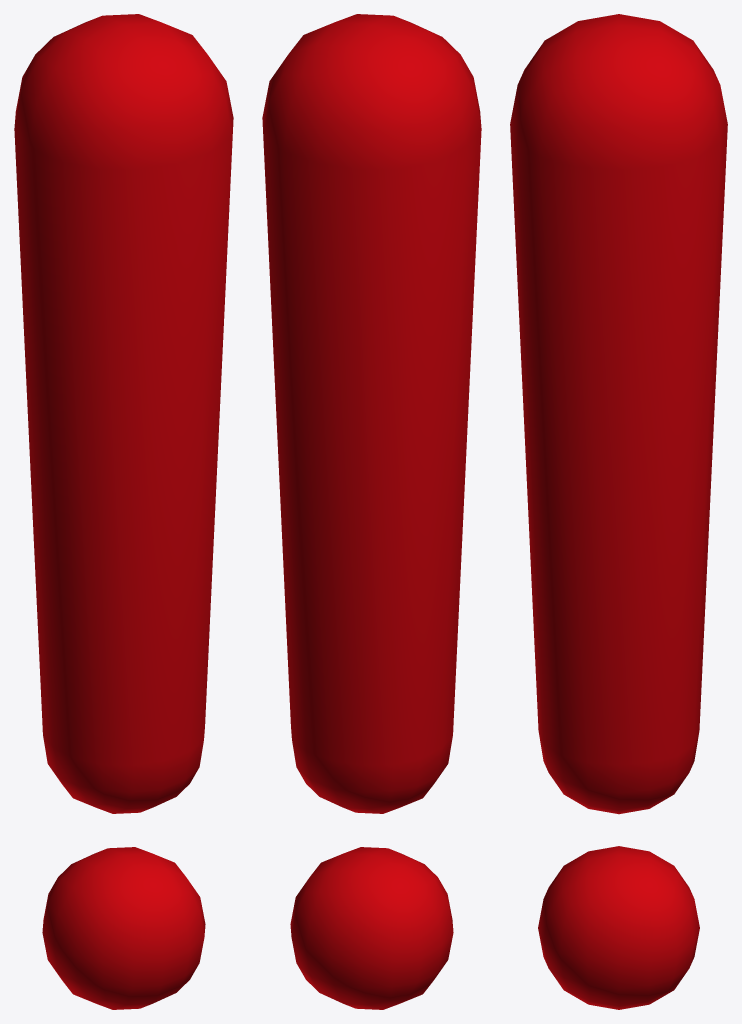
File: SignsE.fbx
The picture shows the model from 3 angles, left to right: view 1: azimuth 30°, elevation 25°; view 2: azimuth 150°, elevation 25°; view 3: azimuth 270°, elevation 25°; orthographic projection.
Parts seen in each view (by area): view 1: E, Dot; view 2: E, Dot; view 3: E, Dot.
Part boxes in pixels (bbox=[...]): E: bbox=[14, 14, 233, 813]; Dot: bbox=[42, 847, 205, 1009]; E: bbox=[262, 14, 481, 813]; Dot: bbox=[290, 847, 453, 1009]; E: bbox=[510, 14, 727, 814]; Dot: bbox=[538, 846, 699, 1009].
Bounding box in the file's own units: 11.79 × 58.27 × 11.79.
